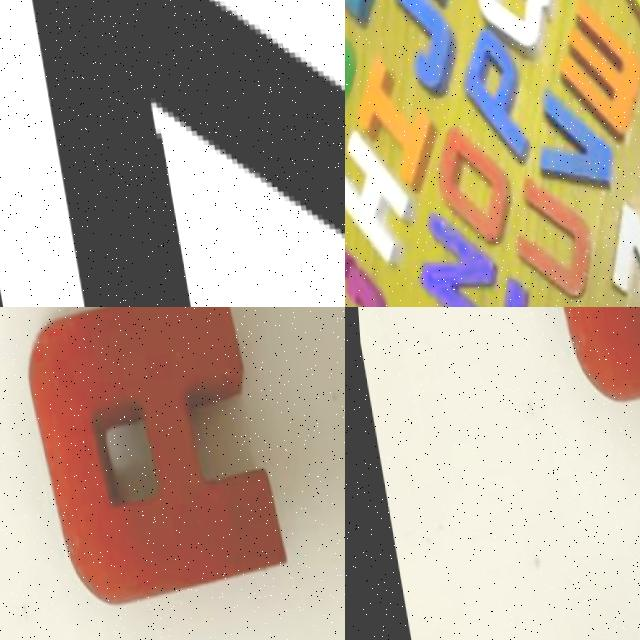A: (9, 307, 289, 604)
G: (345, 246, 384, 307)
H: (345, 127, 418, 262)
I: (345, 55, 442, 189)
J: (383, 0, 460, 98)
N: (408, 209, 504, 307)
O: (425, 113, 511, 243)
P: (453, 21, 537, 155)
Q: (470, 0, 560, 57)
T: (479, 268, 570, 307)
U: (503, 171, 597, 297)
V: (523, 87, 611, 188)
W: (552, 0, 640, 144)
Z: (6, 0, 345, 307), (591, 187, 640, 307)
